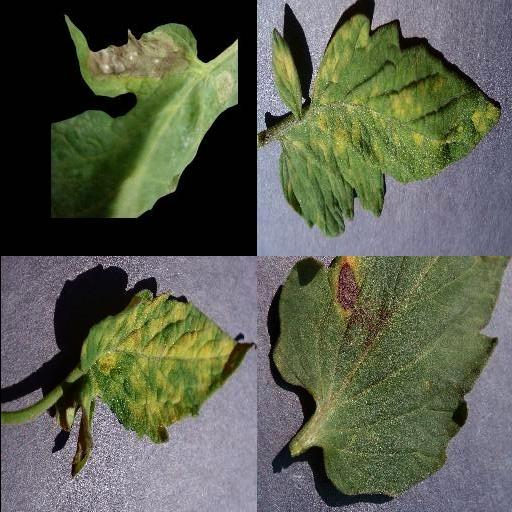Early Blight: (272, 256, 509, 496)
Late Blight: (49, 15, 237, 219)
Leaf Mold: (268, 14, 502, 238), (79, 287, 256, 443)
